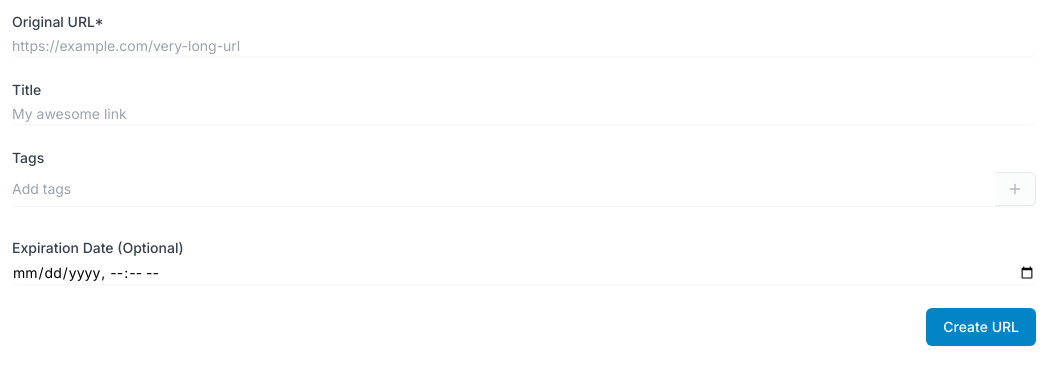
Test: UrlForm Component › adds and removes tags
Note: Add a tag
Type "newtag" into the field labelled "Tags" at coordinates (504, 189), box [12,172,995,206]
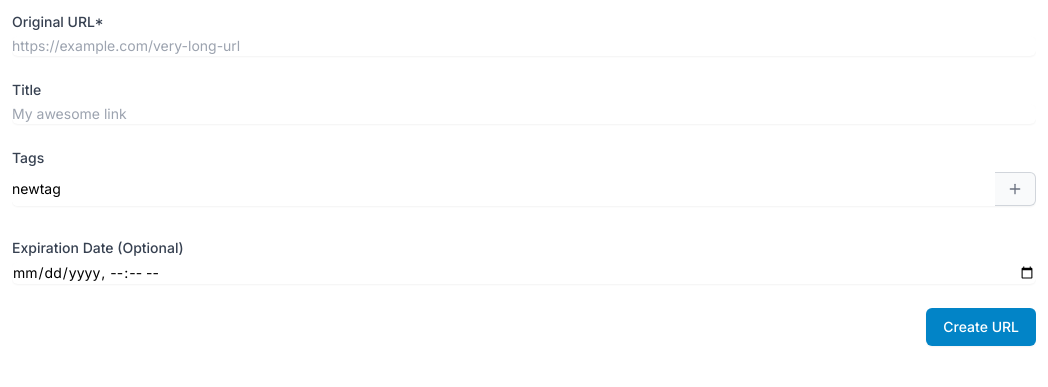
Click the 1st button at coordinates (1016, 189), box [995,172,1036,206]
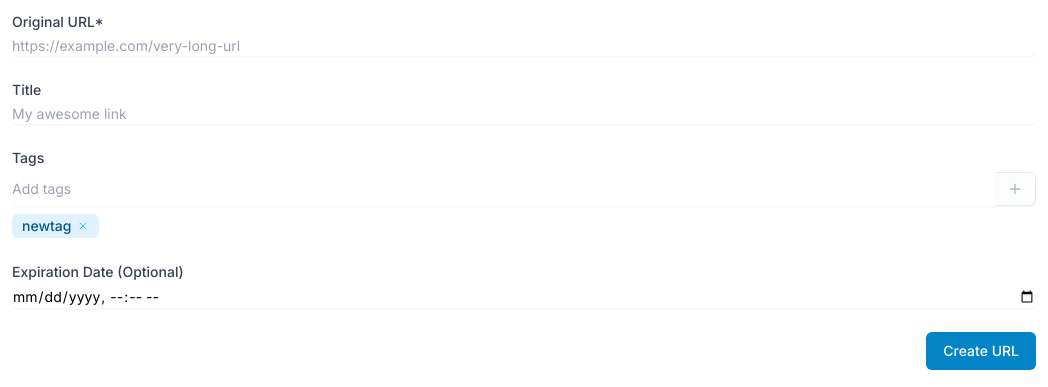
Result: the text "newtag" is shown at [12,214,100,238]
Note: Add another tag
Type "another" into the field labelled "Tags" at coordinates (504, 189), box [12,172,995,206]
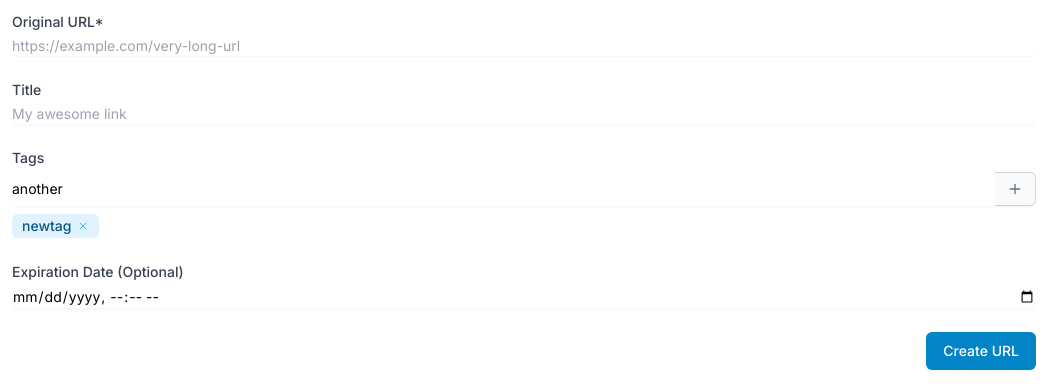
Note: Add tag by pressing Enter
Press Enter in the field labelled "Tags", box [12,172,995,206]
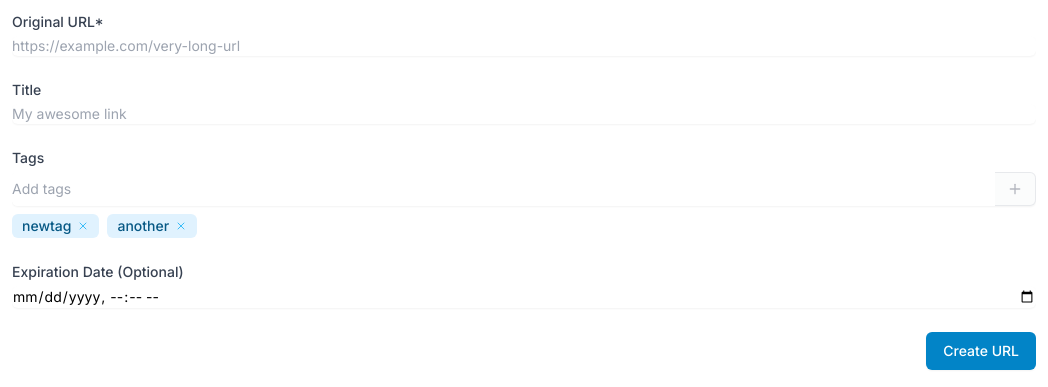
Result: the text "another" is shown at [108,214,197,238]
Click the button without text next to "newtag" at coordinates (84, 226), box [78,220,90,232]
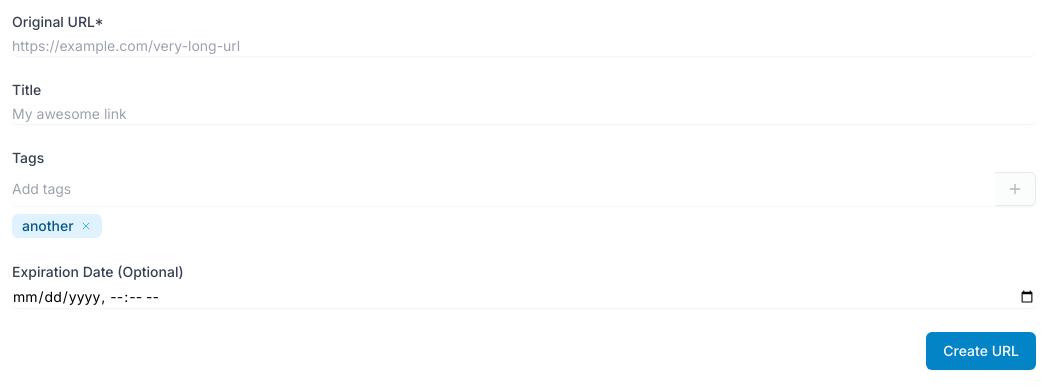
Result: the text "another" is shown at [12,214,102,238]
Result: the text "newtag" is gone
